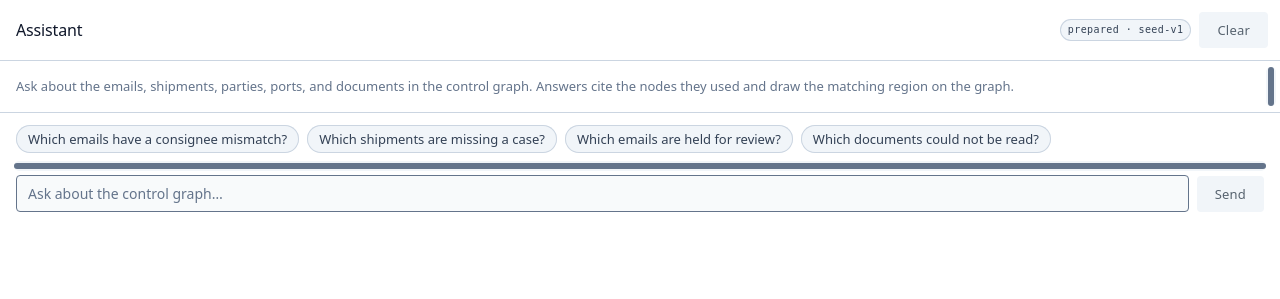
it: GraphChatPanel › replaces the starter chips with the followups from the answer
This screenshot has width=1280, height=299.
Click the button "Which emails have a consignee mismatch?": (158, 139) [16,125,299,153]
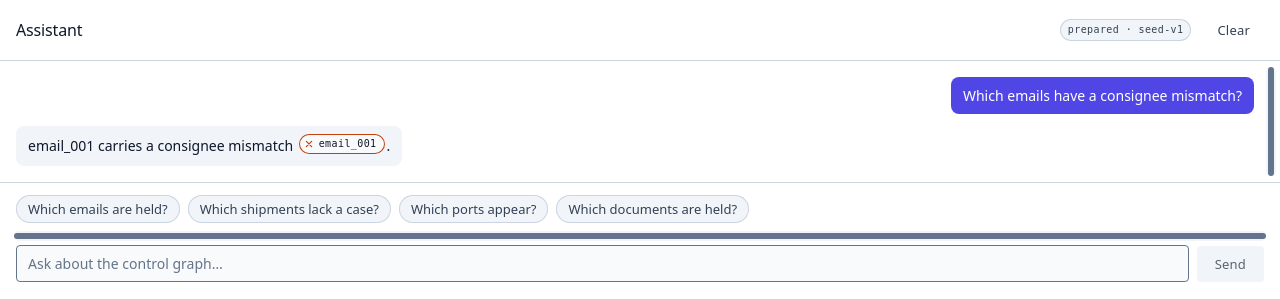
Result: the text "email_001 carries a consignee mismatch email_001 ." is shown at [28,134,390,158]
Result: the button "Which emails are held?" is shown at [16,195,180,223]
Result: the button "Which shipments lack a case?" is shown at [188,195,391,223]
